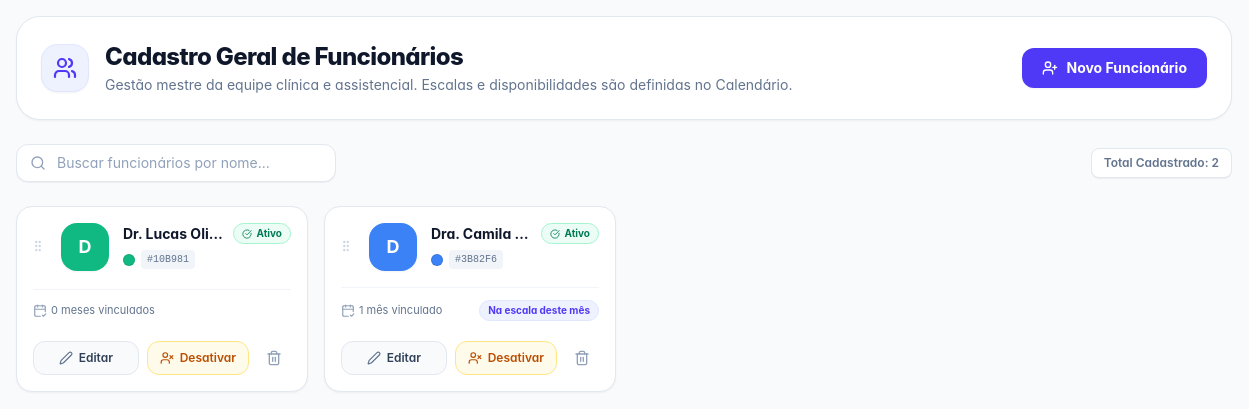
it: PeopleManagementView › filters employees with the search field
This screenshot has width=1249, height=409.
Type "Camila" into the field with placeholder "Buscar funcionários por nome...". click: (176, 163)
box: [16,144,336,182]
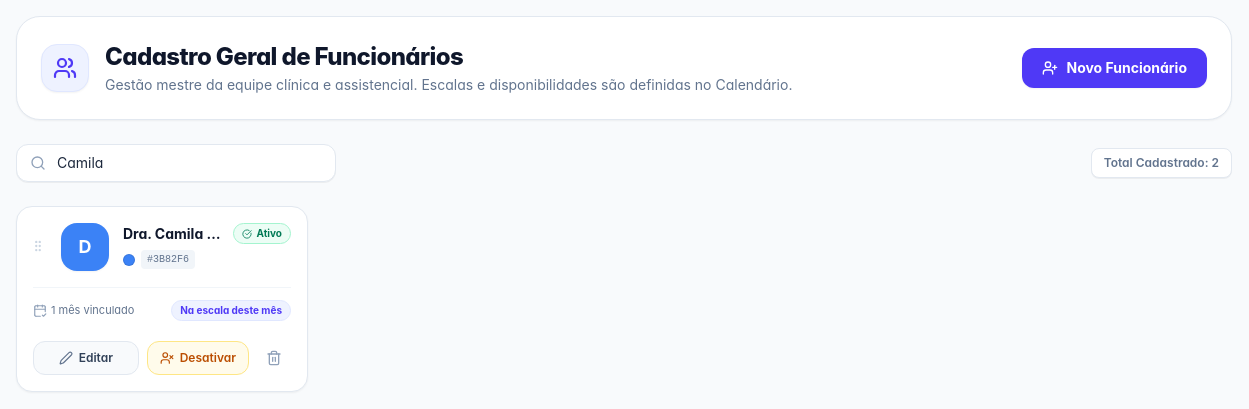
Expected: the heading "Dra. Camila Santos" is shown, [123,224,228,244]
Expected: the heading "Dr. Lucas Oliveira" is gone
